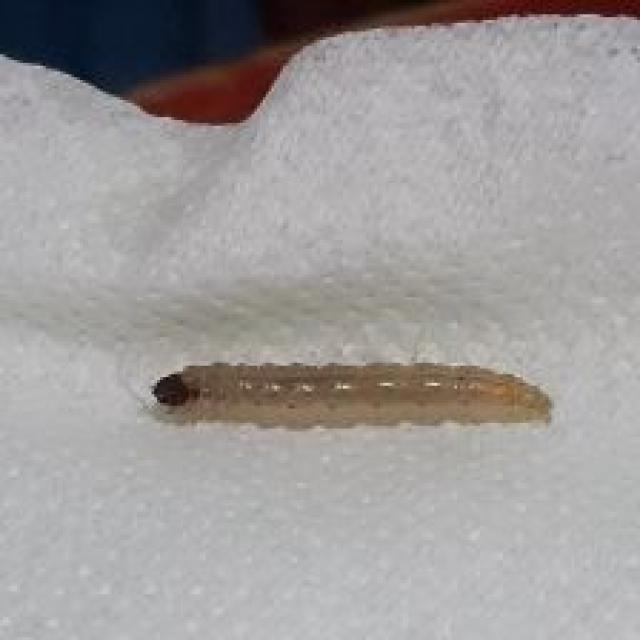white mucus: (138, 348, 557, 433)
